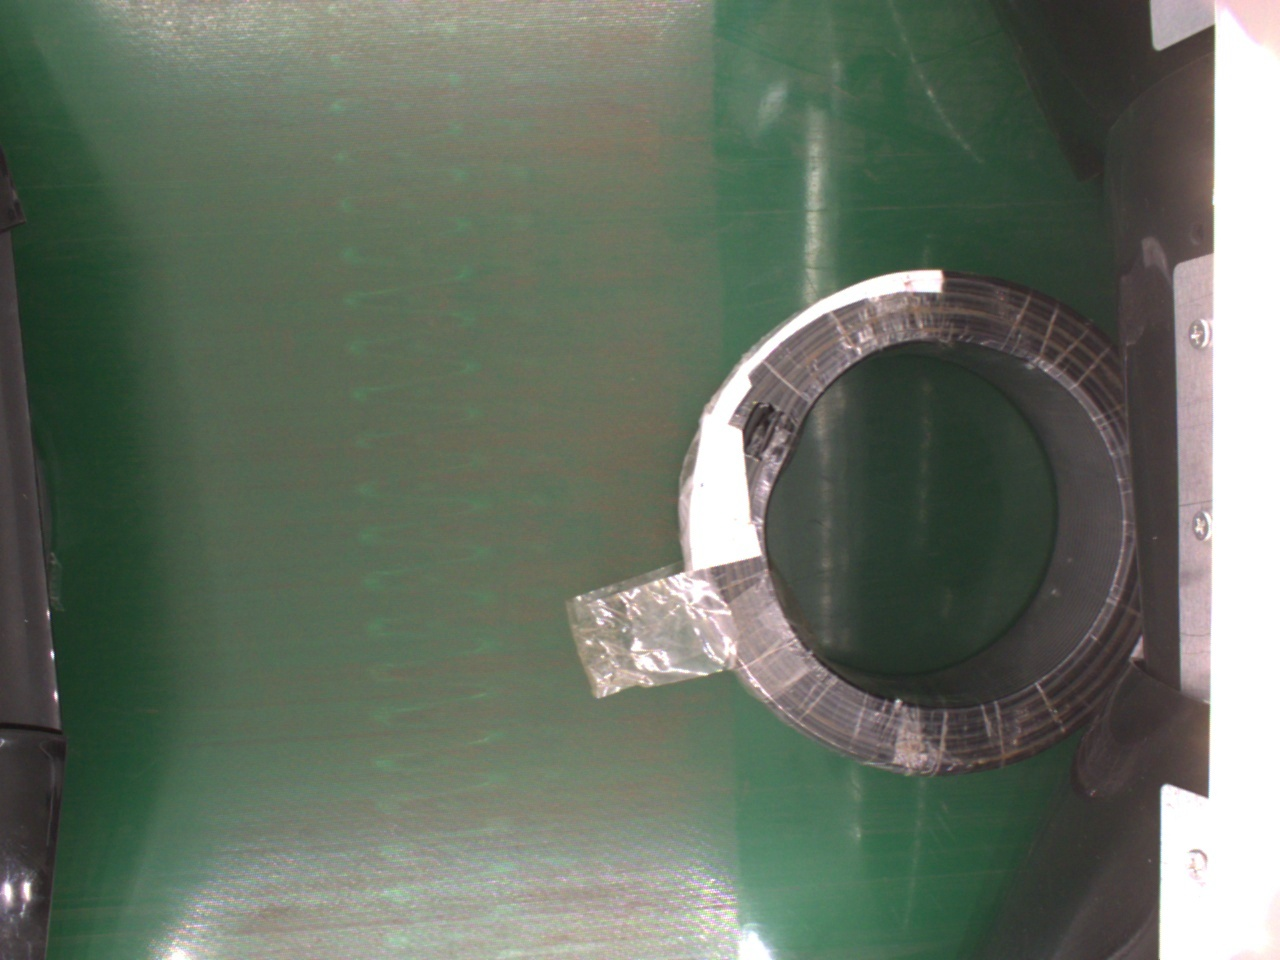black: (674, 270, 1139, 772)
